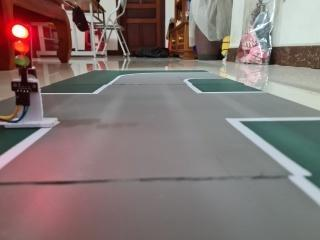red: (4, 22, 43, 85)
